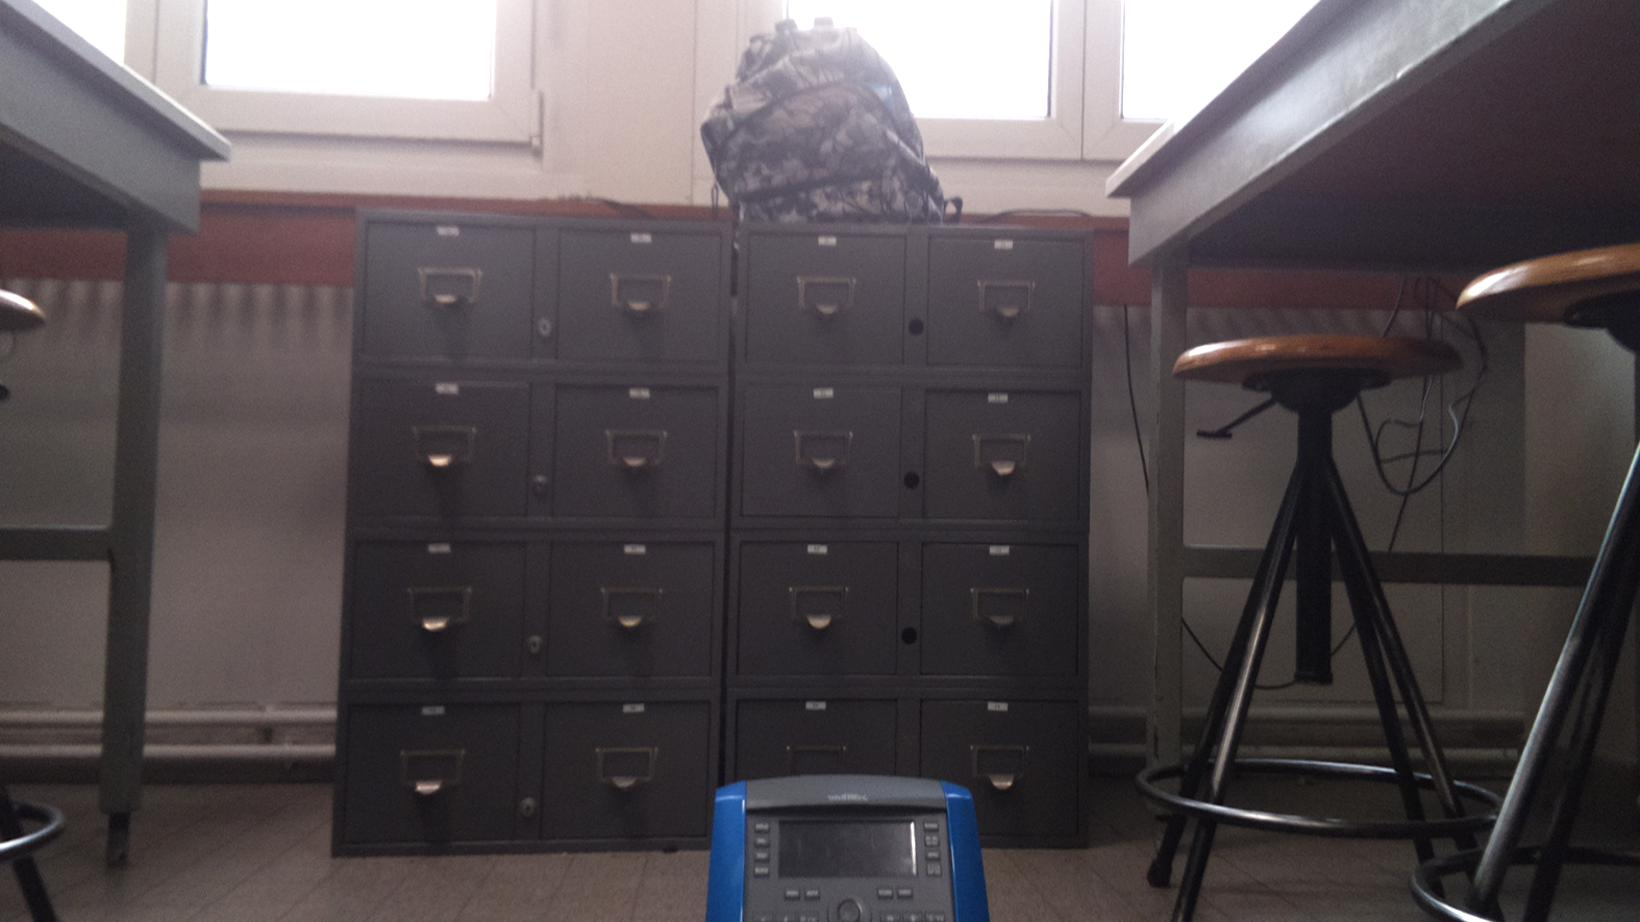big: (697, 14, 975, 229)
medium: (699, 767, 987, 922)
